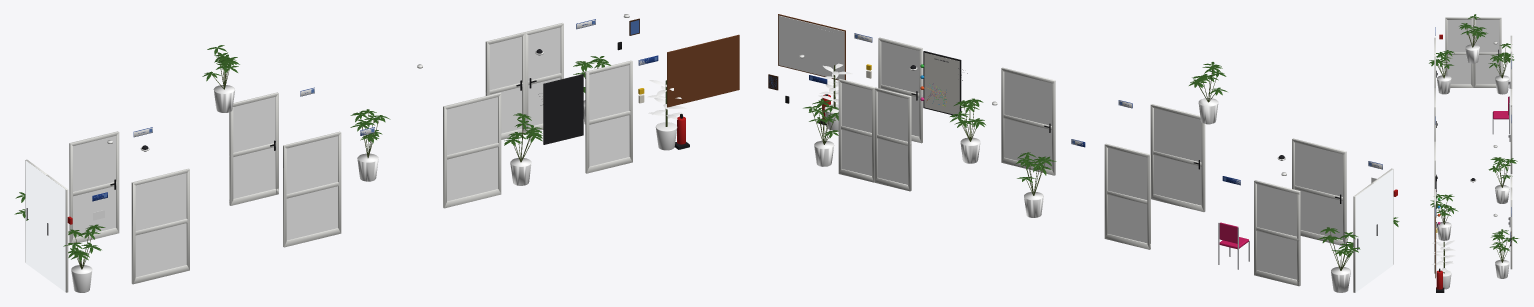
Rendered from corridor_props.glb.
The picture shows the model from 3 angles, left to right: view 1: azimuth 30°, elevation 25°; view 2: azimuth 150°, elevation 25°; view 3: azimuth 270°, elevation 25°; orthographic projection. The views are drawn at different scales.
Visible parts, largest first — view 1: DOOR_Visua_g, DOOR_Visua_l, EXIT_daylight, DIR_frame, BOARD_fsi_frame, PLANT_door_n_leaves, PLANT_door_n_pot, PLANT_door_s_pot, PLANT_lobby_cane, PLANT_lobby_pot; view 2: DOOR_Visua_g, DOOR_Visua_l, EXIT_daylight, DIR_glass, PLANT_door_n_leaves, BOARD_fsi_face, PLANT_door_s_pot, PLANT_lobby_cane, PLANT_door_n_pot, CHAIR_red_seat, PLANT_lobby_leaves; view 3: DOOR_Visua_g, DOOR_Visua_l, PLANT_door_n_leaves, PLANT_door_n_pot, PLANT_door_s_pot, PLANT_lobby_cane, PLANT_lobby_leaves, CHAIR_red_seat, FIRE_ext, PLANT_lobby_pot, DOOR_Visua_h, CHAIR_red_leg-1-1.
Boxes of the visible parts, x1,y1,x2,y2 form: DOOR_Visua_g: [73, 27, 629, 277]; DOOR_Visua_l: [25, 23, 632, 292]; EXIT_daylight: [25, 161, 65, 292]; DIR_frame: [667, 34, 739, 107]; BOARD_fsi_frame: [543, 74, 583, 144]; PLANT_door_n_leaves: [14, 45, 610, 261]; PLANT_door_n_pot: [71, 100, 585, 292]; PLANT_door_s_pot: [213, 85, 531, 185]; PLANT_lobby_cane: [75, 51, 667, 269]; PLANT_lobby_pot: [655, 122, 677, 150]; DOOR_Visua_g: [841, 41, 1342, 279]; DOOR_Visua_l: [838, 37, 1393, 292]; EXIT_daylight: [1355, 169, 1393, 292]; DIR_glass: [778, 15, 844, 79]; PLANT_door_n_leaves: [803, 62, 1399, 258]; BOARD_fsi_face: [924, 52, 959, 115]; PLANT_door_s_pot: [960, 98, 1350, 292]; PLANT_lobby_cane: [812, 65, 1350, 270]; PLANT_door_n_pot: [814, 140, 1043, 217]; CHAIR_red_seat: [1219, 222, 1248, 249]; PLANT_lobby_leaves: [818, 63, 852, 103]; DOOR_Visua_g: [1447, 20, 1499, 84]; DOOR_Visua_l: [1434, 17, 1512, 273]; PLANT_door_n_leaves: [1429, 14, 1518, 252]; PLANT_door_n_pot: [1437, 75, 1509, 278]; PLANT_door_s_pot: [1437, 44, 1509, 240]; PLANT_lobby_cane: [1438, 19, 1512, 273]; PLANT_lobby_leaves: [1431, 240, 1455, 272]; CHAIR_red_seat: [1493, 96, 1509, 119]; FIRE_ext: [1436, 34, 1442, 289]; PLANT_lobby_pot: [1441, 270, 1451, 289]; DOOR_Visua_h: [1436, 49, 1511, 271]; CHAIR_red_leg-1-1: [1492, 96, 1509, 134].
Bounding box in the file's own units: 14.34 × 3.82 × 2.46.
